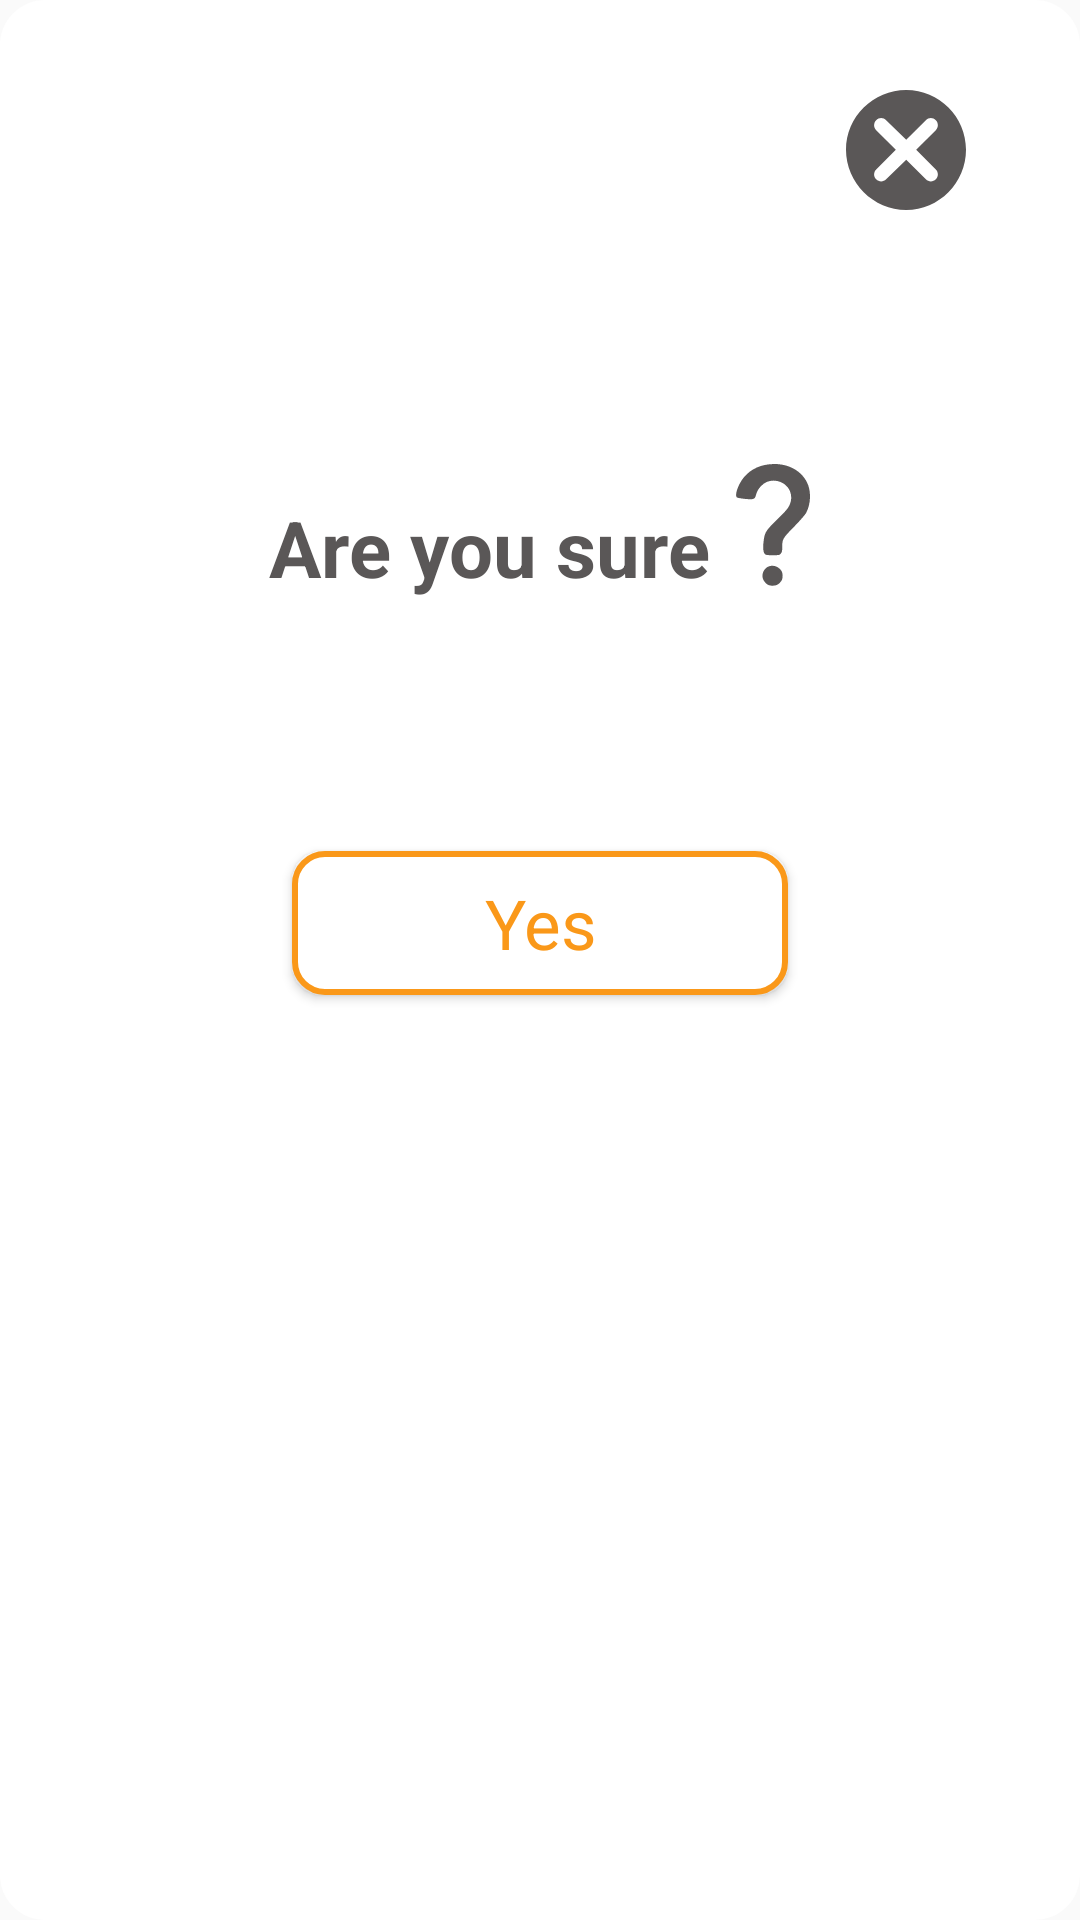

Icon bounding boxes for this 1080px×1920px phone screenshot, format {"left": x1, "top": y1, "right": x2, "bottom": y2}:
close: {"left": 846, "top": 90, "right": 966, "bottom": 210}
questionmark: {"left": 736, "top": 464, "right": 810, "bottom": 586}
